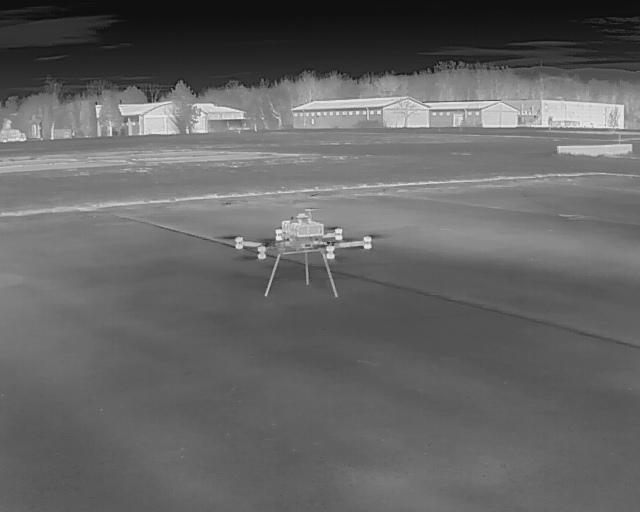drone: (208, 201, 400, 304)
